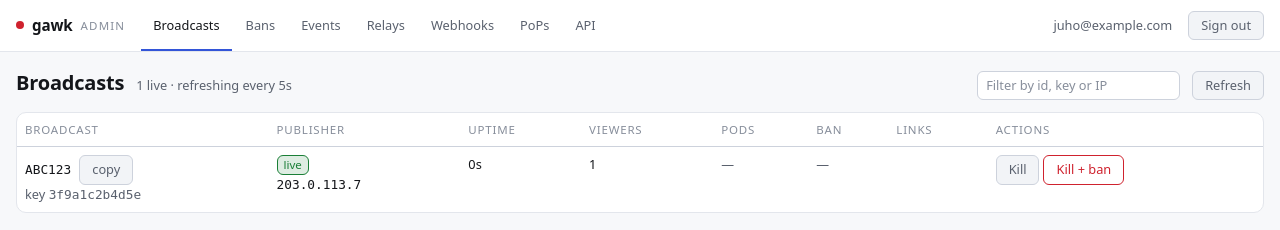
Test: the shell › offers the PoPs link only when the probe reports the feature
Check: the heading "Broadcasts" is shown, box x1=16 y1=68 x2=124 y2=98
What coordinates should you click on to do the following:
click the link "PoPs"
I would click on:
 (535, 26)
Its box is x1=508 y1=0 x2=562 y2=51.
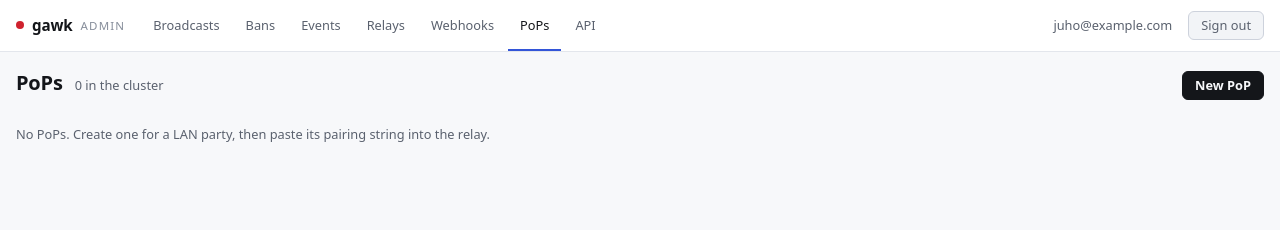
Check: the heading "PoPs" is shown, box x1=16 y1=68 x2=63 y2=98
